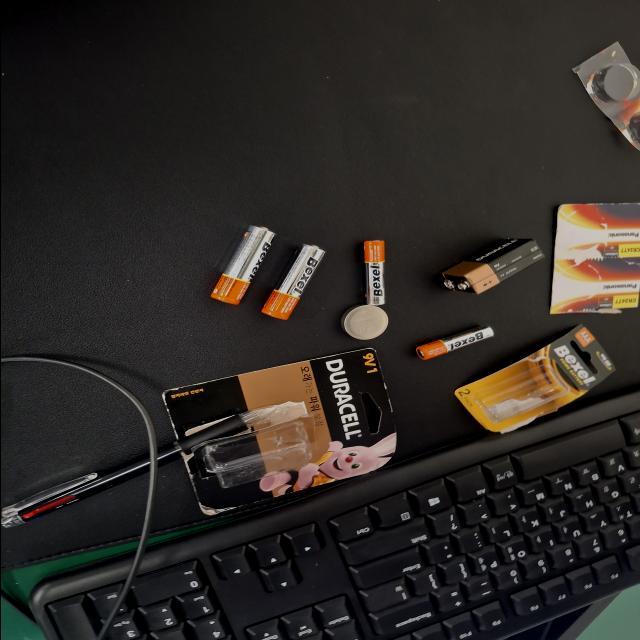9V: (247, 325, 324, 409)
AA: (233, 156, 341, 206), (212, 194, 316, 243)
AAA: (158, 312, 208, 372), (232, 269, 322, 291)
COIN: (189, 254, 235, 290)
